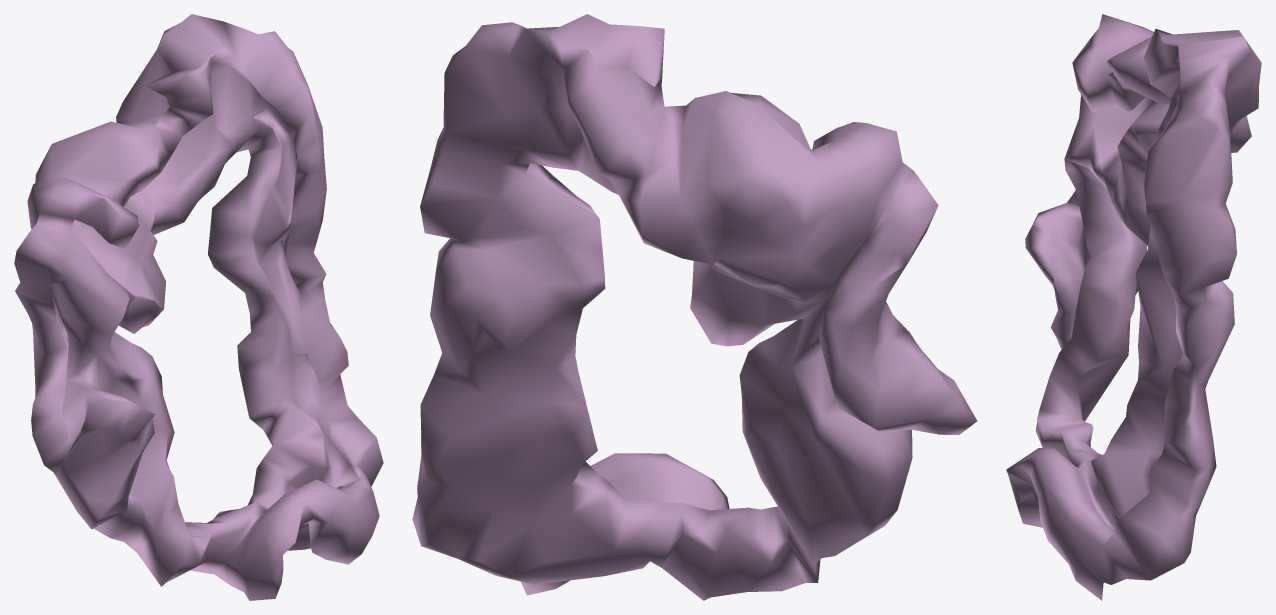
3 views of the same model, side by side, from view 1: azimuth 30°, elevation 25°; view 2: azimuth 150°, elevation 25°; view 3: azimuth 270°, elevation 25° (orthographic). The views are drawn at different scales.
Parts seen in each view (by area): view 1: 右侧眶回; view 2: 右侧眶回; view 3: 右侧眶回.
Part boxes in pixels (x1=…): 右侧眶回: x1=14, y1=14, x2=383, y2=600; 右侧眶回: x1=412, y1=14, x2=977, y2=600; 右侧眶回: x1=1006, y1=14, x2=1261, y2=600.
Bounding box in the file's own units: 0.0718 × 0.0905 × 0.0401.
